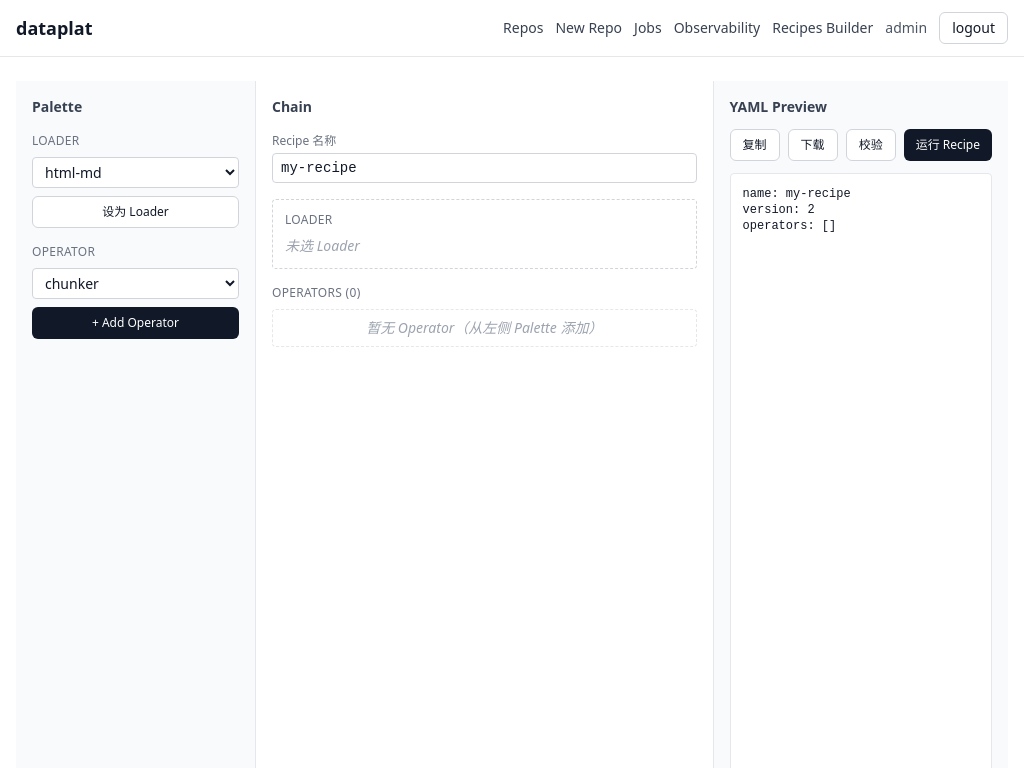
Test: /recipes/builder › Test A: dedup operator shows enum select for 'key' field
Select "dedup" in the dropdown with test id "operator-select" at (136, 284), box [32,268,239,299]
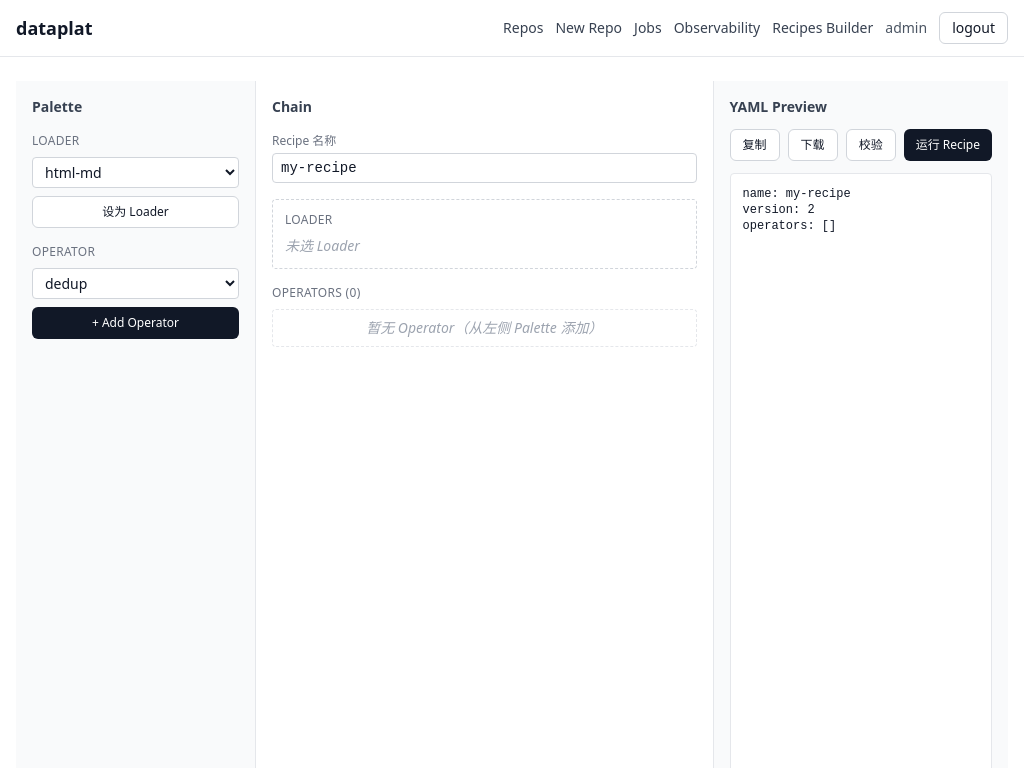
Click the button with test id "operator-add" at (136, 323), box [32,307,239,339]
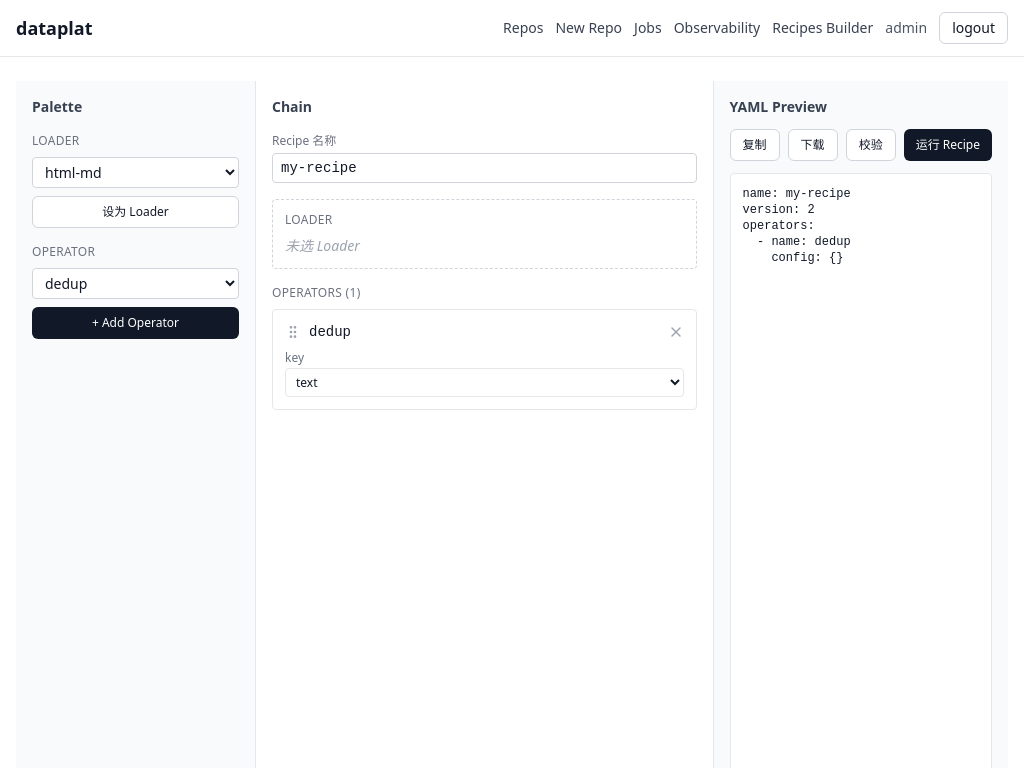
expect the element with test id "operator-card-0" is shown: met, box [272,309,697,410]
